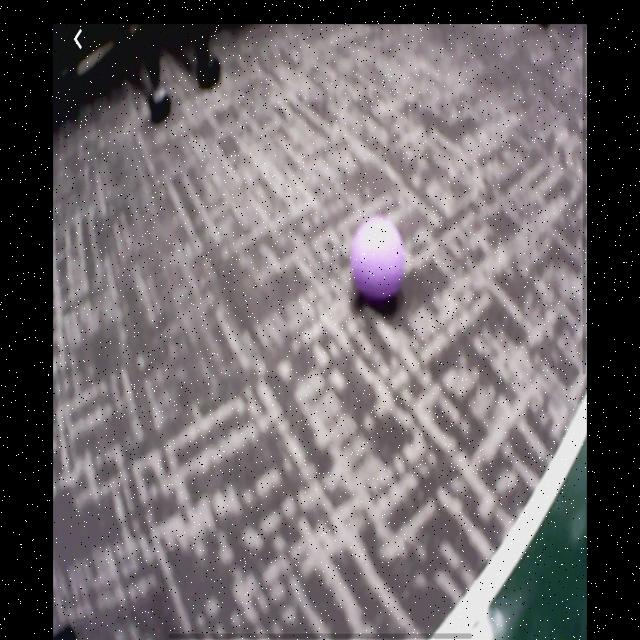ball: (353, 216, 407, 302)
